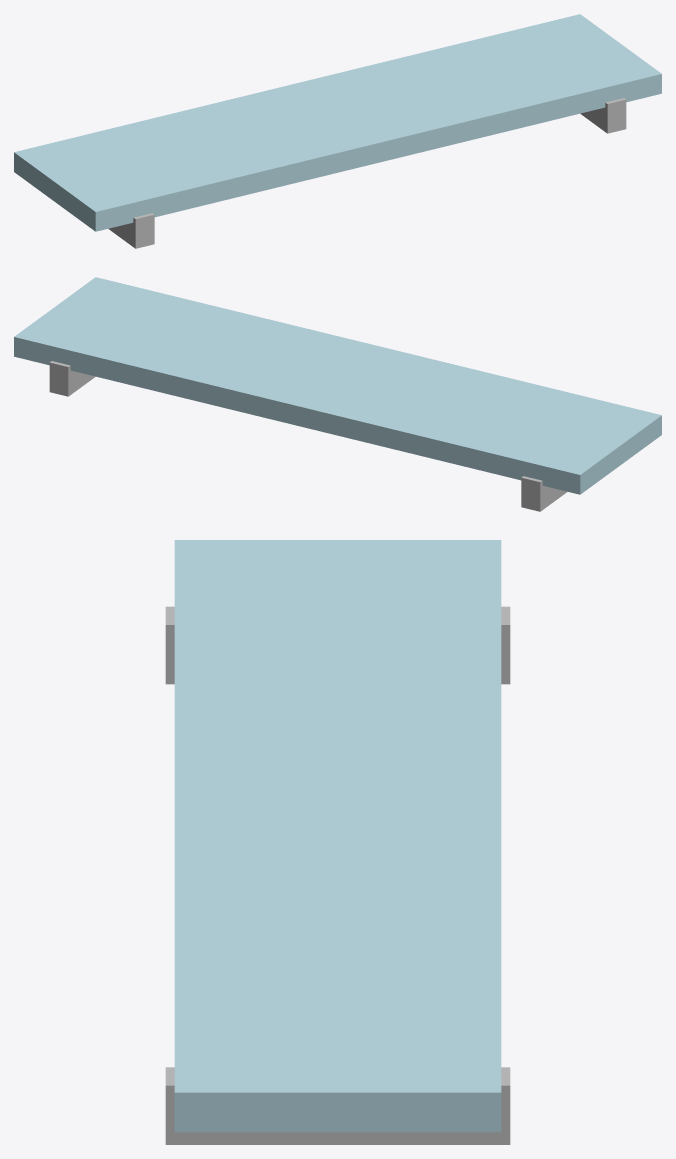
The model's file is furniture.home.bathroom_radiator_shelf.glb.
3 views of the same model, one above another, from view 1: azimuth 30°, elevation 25°; view 2: azimuth 150°, elevation 25°; view 3: azimuth 270°, elevation 25° (orthographic). The views are drawn at different scales.
Parts seen in each view (by area): view 1: main__glass, main__steel_stainless; view 2: main__glass, main__steel_stainless; view 3: main__glass, main__steel_stainless.
Part boxes in pixels (x1,y1,x2,y2): main__glass: [14, 14, 661, 231]; main__steel_stainless: [108, 98, 626, 248]; main__glass: [14, 277, 661, 494]; main__steel_stainless: [49, 361, 567, 511]; main__glass: [174, 540, 501, 1132]; main__steel_stainless: [165, 606, 510, 1144].
Size of the model in its own units: 0.6 by 0.045 by 0.158.
